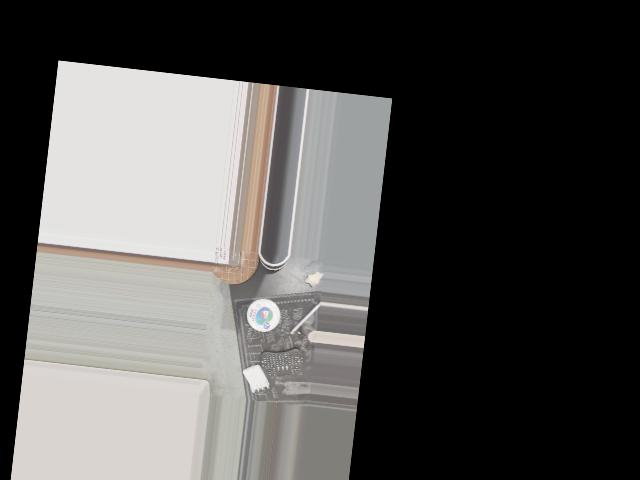cotage: (238, 294, 282, 335)
